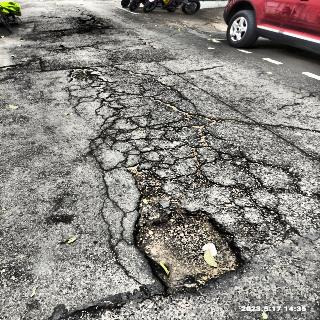alligator-crack: (69, 69, 290, 211)
pothole: (123, 202, 248, 294)
